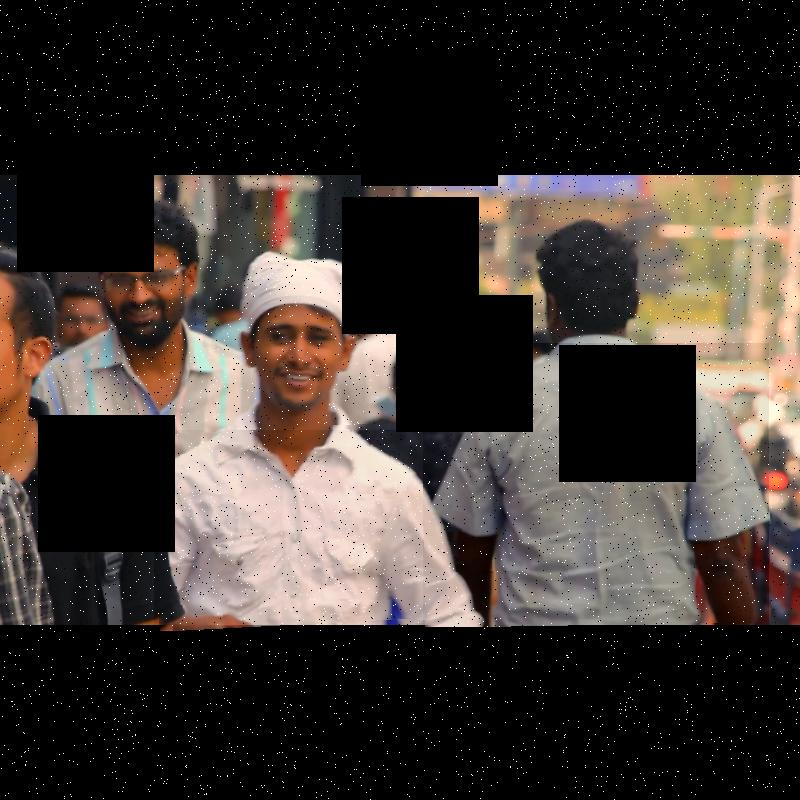Shirt: (423, 343, 769, 627), (154, 430, 482, 630)
